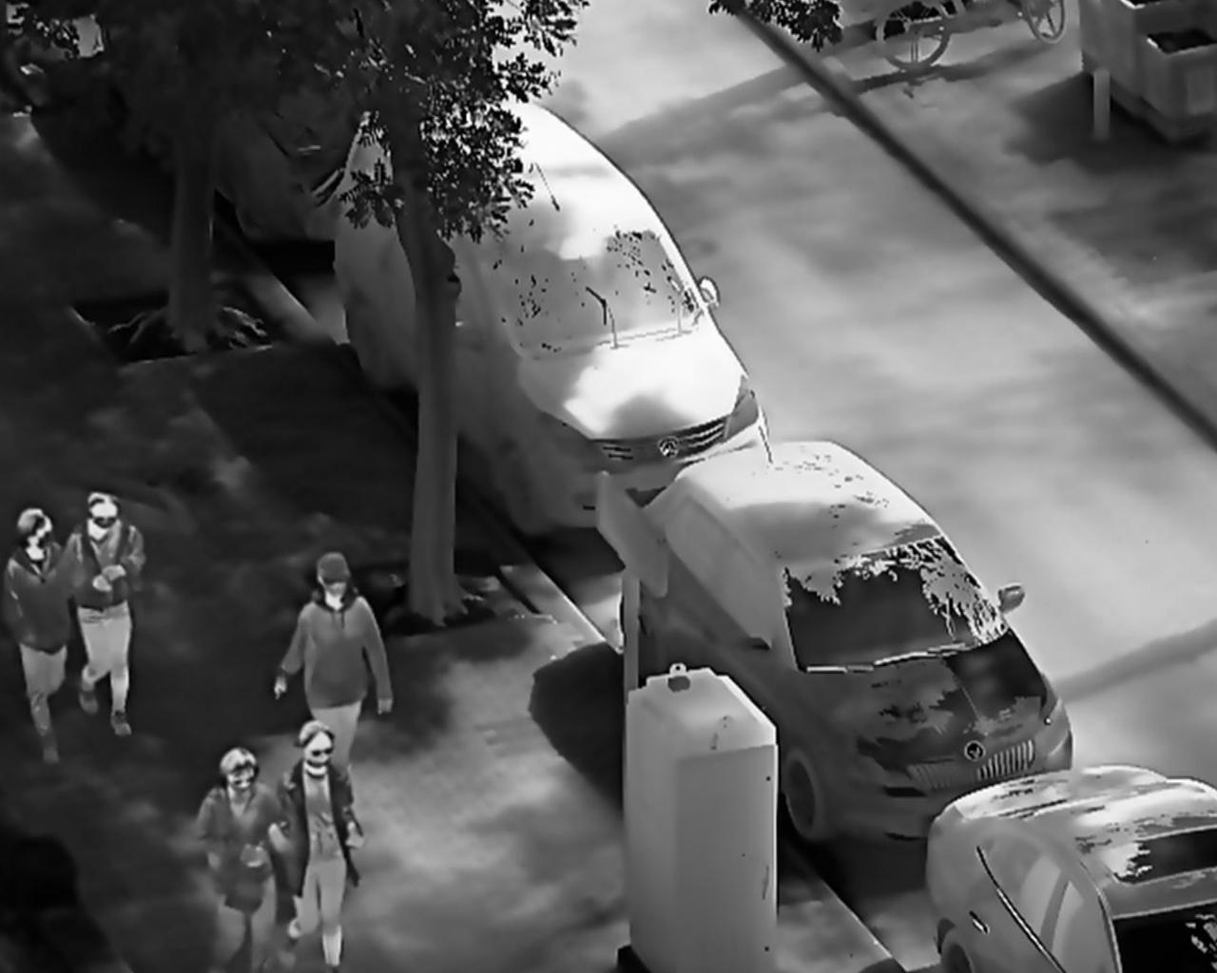person: (272, 549, 396, 777), (278, 719, 373, 973), (188, 743, 291, 973), (66, 488, 148, 740)
